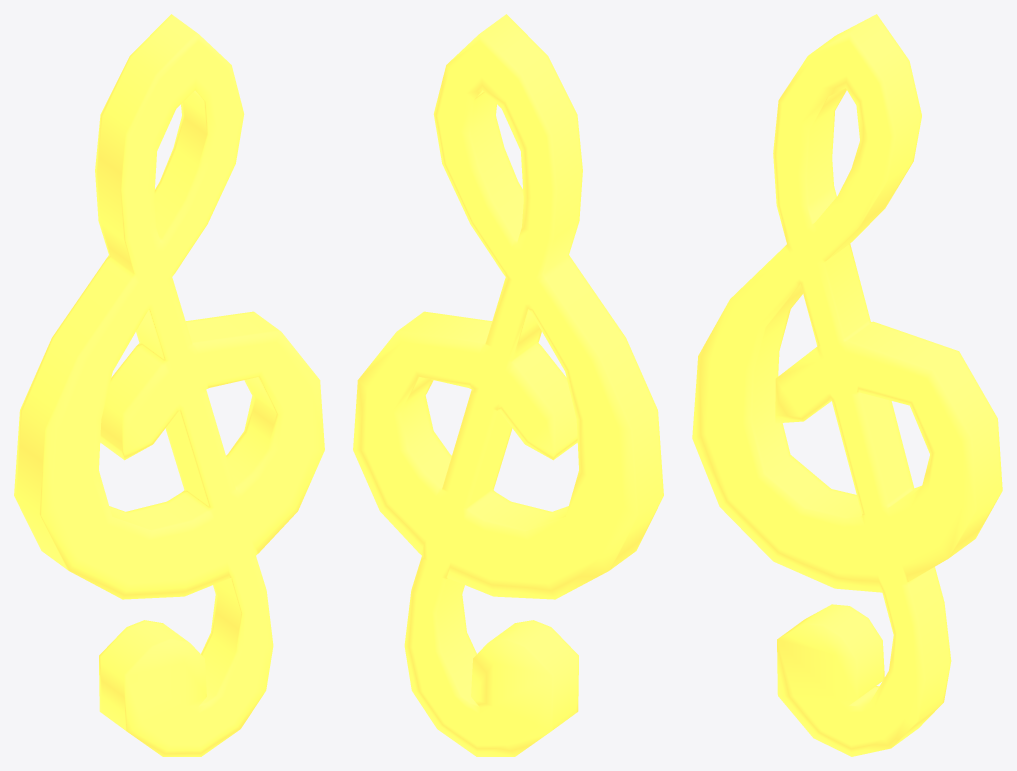
The model's file is Notes_1.glb.
3 renders of one model, left to right at view 1: azimuth 30°, elevation 25°; view 2: azimuth 150°, elevation 25°; view 3: azimuth 330°, elevation 25°, orthographic.
Visible parts, largest first — view 1: Keys_Obj.001; view 2: Keys_Obj.001; view 3: Keys_Obj.001.
Part boxes in pixels (x1,y1,x2,y2): Keys_Obj.001: (14,14,324,756); Keys_Obj.001: (353,14,663,756); Keys_Obj.001: (692,14,1002,756).
Size of what is drawn, in the model's own units: 1.3 by 3.17 by 0.2183.
